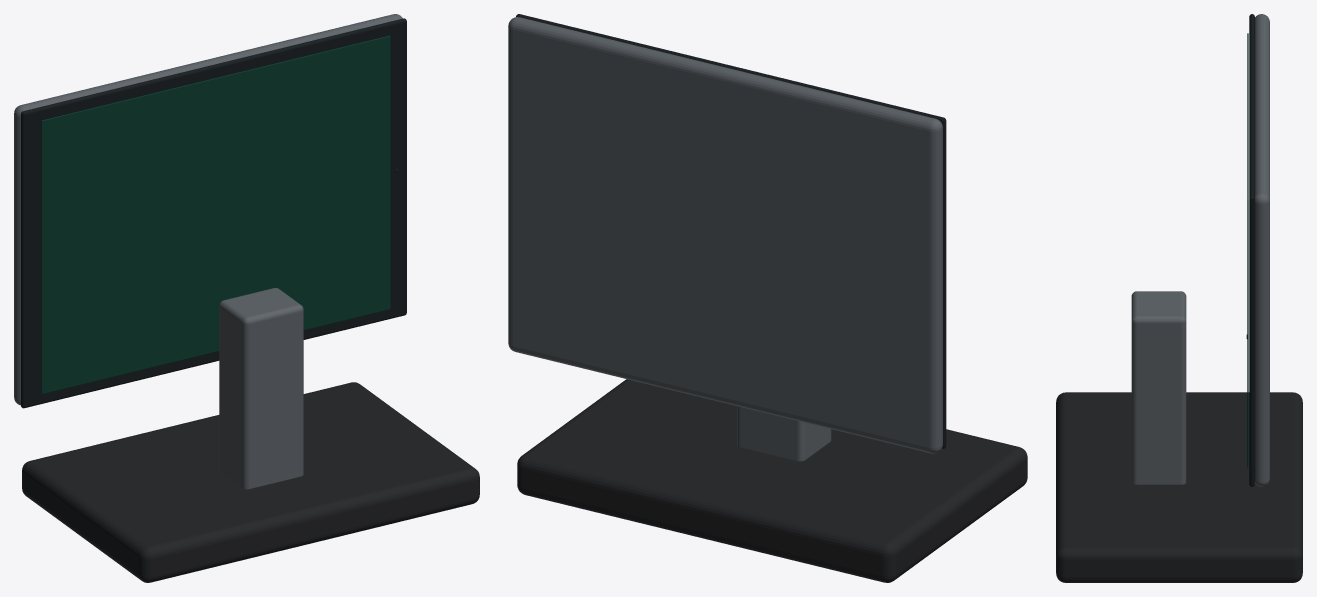
File: hiperreal-hd.glb
The picture shows the model from 3 angles, left to right: view 1: azimuth 30°, elevation 25°; view 2: azimuth 150°, elevation 25°; view 3: azimuth 270°, elevation 25°; orthographic projection. The views are drawn at different scales.
Visible parts, largest first — view 1: Display landscape, Support base, Bezel, Support arm, iPad body; view 2: iPad body, Support base, Support arm, Bezel; view 3: Support base, Support arm, iPad body, Bezel, Display landscape.
Part boxes in pixels (x1,y1,x2,y2): Display landscape: (41, 35, 390, 394); Support base: (22, 382, 479, 582); Bezel: (21, 18, 406, 408); Support arm: (219, 288, 303, 489); iPad body: (14, 14, 402, 405); iPad body: (508, 17, 942, 453); Support base: (517, 379, 1027, 582); Support arm: (737, 406, 831, 461); Bezel: (516, 14, 946, 448); Support base: (1056, 392, 1302, 582); Support arm: (1131, 291, 1186, 484); iPad body: (1255, 14, 1269, 486); Bezel: (1249, 14, 1254, 486); Display landscape: (1247, 33, 1248, 467).
Size of the model in its own units: 0.32 by 0.323 by 0.18.
